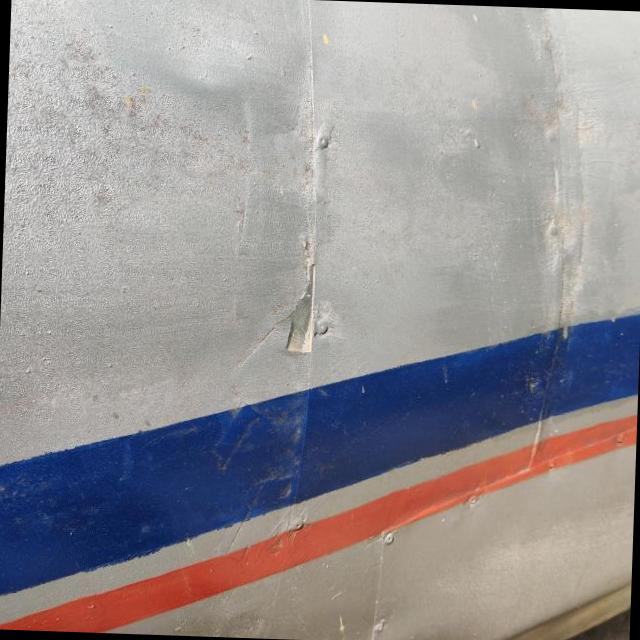Paint-off: (286, 264, 314, 353)
